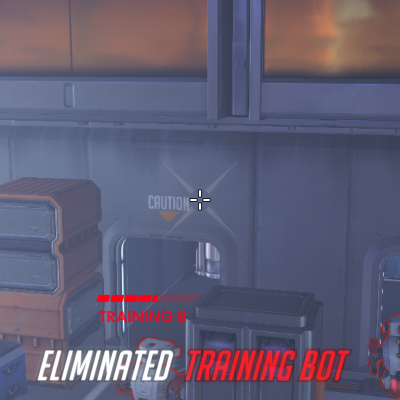hpbar: (96, 294, 202, 303)
